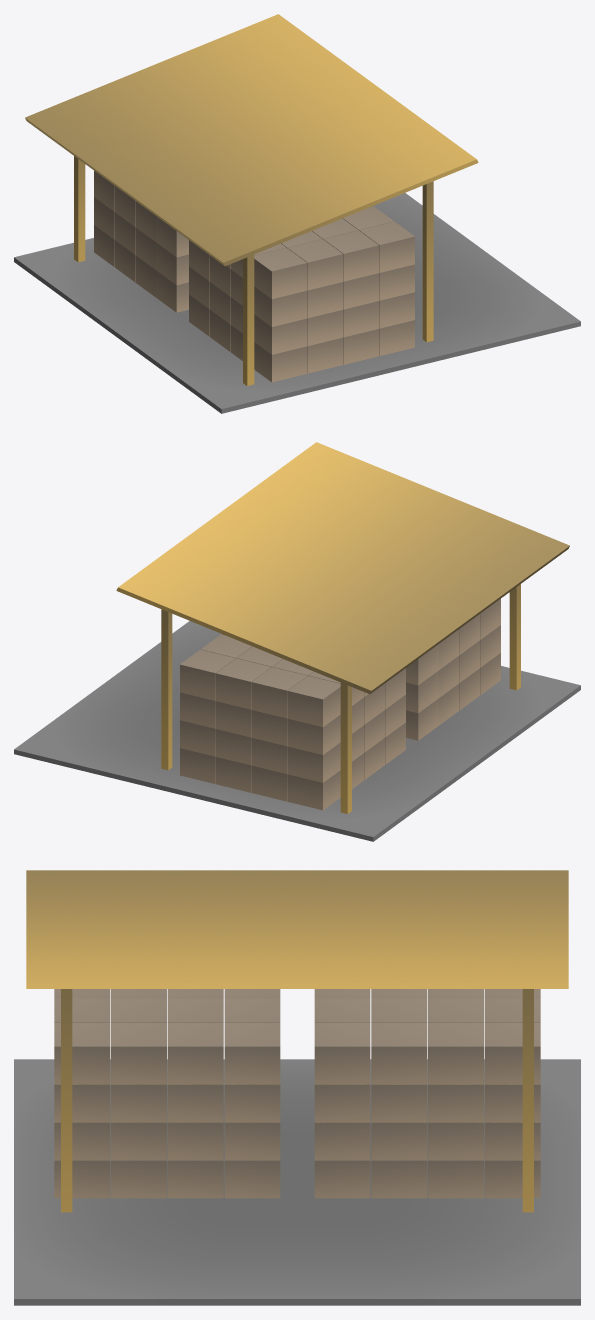
The model's file is storage4.glb.
3 views of the same model, one above another, from view 1: azimuth 30°, elevation 25°; view 2: azimuth 150°, elevation 25°; view 3: azimuth 270°, elevation 25° (orthographic). The views are drawn at different scales.
Parts seen in each view (by area): view 1: Storage4; view 2: Storage4; view 3: Storage4.
Part boxes in pixels (x1,y1,x2,y2): Storage4: (14, 14, 580, 413); Storage4: (14, 442, 580, 841); Storage4: (14, 870, 580, 1305).
Size of the model in its own units: 4 by 2 by 4.
Materials: 1 (1 with a texture image).
